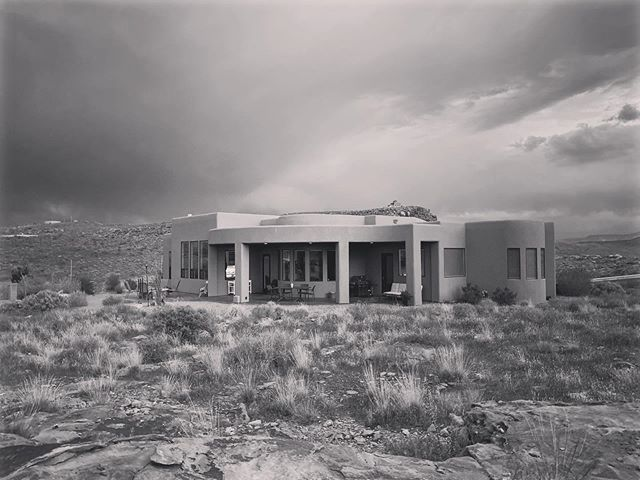building: (167, 211, 553, 311)
grass: (14, 310, 640, 480)
sky: (6, 1, 640, 211)
